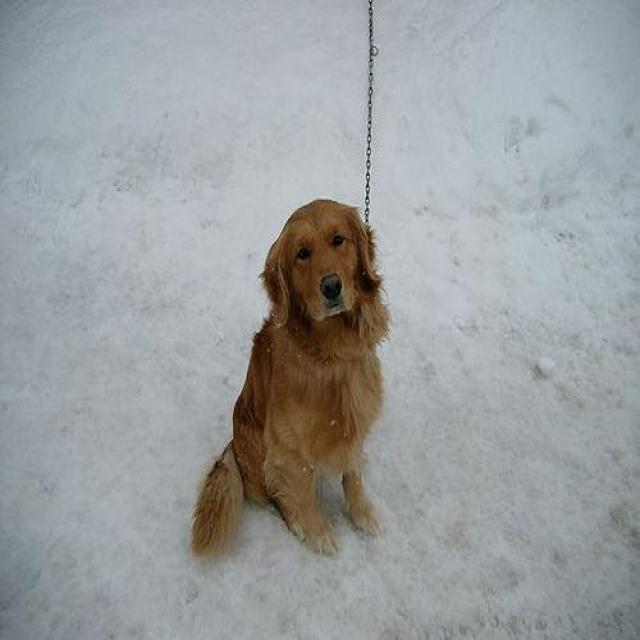sitting: (186, 193, 393, 570)
